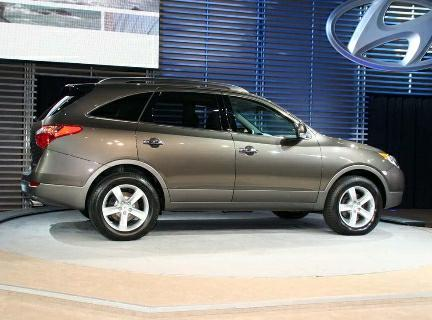car: (19, 59, 415, 248)
